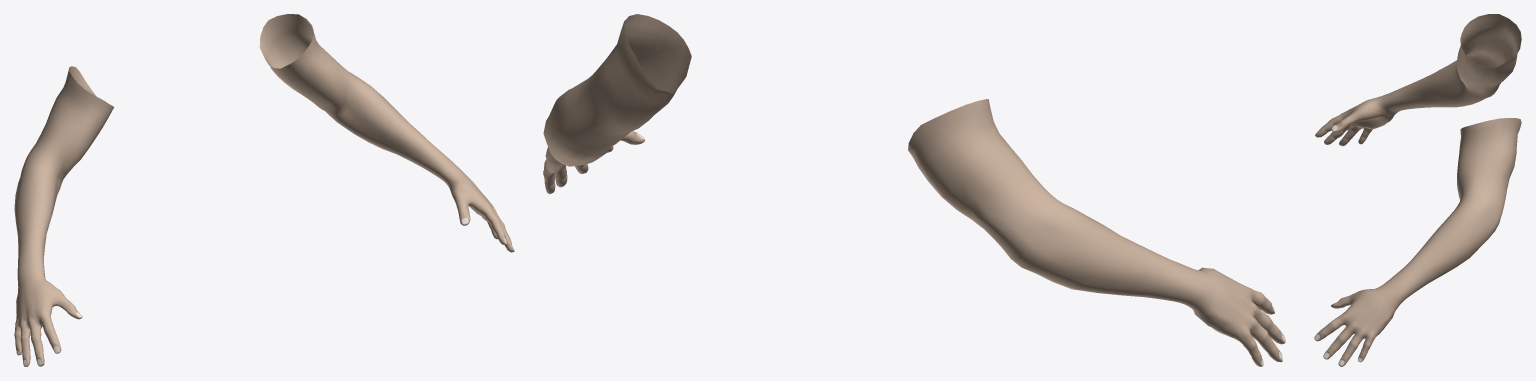
File: kollar.fbx
The picture shows the model from 3 angles, left to right: view 1: azimuth 30°, elevation 25°; view 2: azimuth 150°, elevation 25°; view 3: azimuth 270°, elevation 25°; orthographic projection. The views are drawn at different scales.
Parts seen in each view (by area): view 1: polySurface2, polySurface1; view 2: polySurface1, polySurface2; view 3: polySurface2, polySurface1.
Boxes of the visible parts, x1,y1,x2,y2 form: polySurface2: (259, 14, 514, 252); polySurface1: (14, 66, 113, 366); polySurface1: (908, 99, 1285, 366); polySurface2: (543, 14, 691, 194); polySurface2: (1314, 118, 1521, 366); polySurface1: (1315, 14, 1521, 146).
Size of the model in its own units: 74.37 by 29.73 by 29.38.
